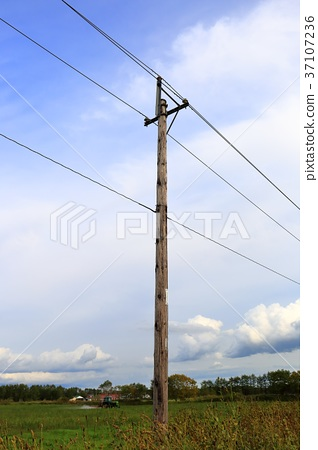utility_pole: (129, 65, 195, 161)
